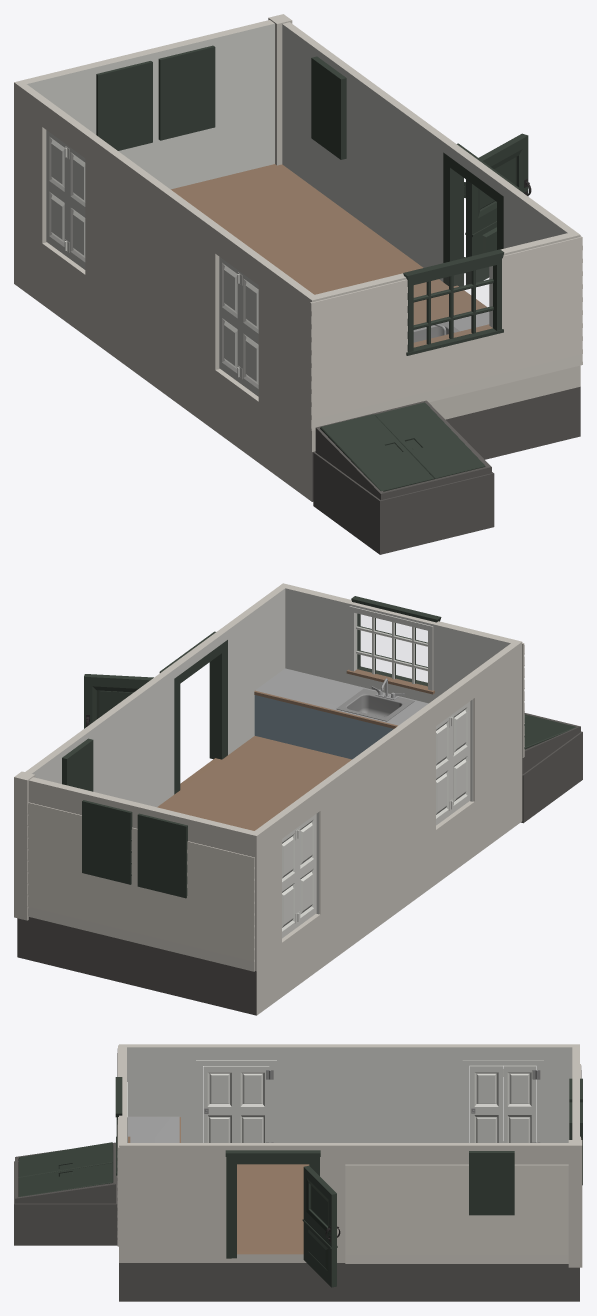
File: house_kitchen.fbx
3 renders of one model, top to bottom at view 1: azimuth 30°, elevation 25°; view 2: azimuth 150°, elevation 25°; view 3: azimuth 270°, elevation 25°, orthographic. The views are drawn at different scales.
Parts seen in each view (by area): view 1: kitchen_frame, clapboardbase14, pCube10, door_outside (×2), placeholder_window2, placeholder_window3, pCube12, door_inside (×2), pCube11, windowframe, door_main, door_main_frame (+3 smaller); view 2: kitchen_frame, clapboardbase15, counter, pCube10, door_inside (×2), placeholder_window3, placeholder_window2, door_main_frame, door_outside (×2), windowframe, pCube18, door_main (+3 smaller); view 3: kitchen_frame, clapboardbase6, pCube10, door_inside (×2), door_outside (×2), frame (×2), placeholder_window1, door_main, door_main_frame, pCube12, pCube11, pCube18 (+4 smaller).
Boxes of the visible parts, box(x1,y1,x2,y2) form: kitchen_frame: box(14, 20, 580, 501); clapboardbase14: box(310, 236, 582, 430); pCube10: box(313, 400, 494, 554); door_outside (×2): box(46, 130, 240, 382); placeholder_window2: box(158, 45, 215, 140); placeholder_window3: box(96, 61, 152, 150); pCube12: box(320, 414, 433, 491); door_inside (×2): box(67, 146, 258, 396); pCube11: box(374, 402, 484, 479); windowframe: box(403, 249, 504, 355); door_main: box(465, 133, 528, 284); door_main_frame: box(443, 143, 519, 286); kitchen_frame: box(17, 583, 522, 1015); clapboardbase15: box(27, 802, 254, 971); counter: box(254, 668, 428, 759); pCube10: box(521, 712, 582, 823); door_inside (×2): box(297, 701, 470, 926); placeholder_window3: box(137, 813, 187, 898); placeholder_window2: box(82, 800, 132, 884); door_main_frame: box(159, 631, 227, 794); door_outside (×2): box(282, 715, 451, 938); windowframe: box(346, 596, 441, 694); pCube18: box(14, 771, 35, 920); door_main: box(84, 674, 153, 728); kitchen_frame: box(119, 1044, 579, 1301); clapboardbase6: box(345, 1164, 568, 1263); pCube10: box(14, 1142, 117, 1245); door_inside (×2): box(203, 1065, 502, 1142); door_outside (×2): box(236, 1065, 535, 1142); frame (×2): box(196, 1060, 543, 1142); placeholder_window1: box(469, 1151, 514, 1215); door_main: box(302, 1165, 337, 1287); door_main_frame: box(225, 1150, 320, 1258); pCube12: box(18, 1142, 113, 1177); pCube11: box(18, 1163, 113, 1196); pCube18: box(568, 1140, 582, 1267).
Size of the model in its own units: 6.93 by 3.87 by 12.41.
